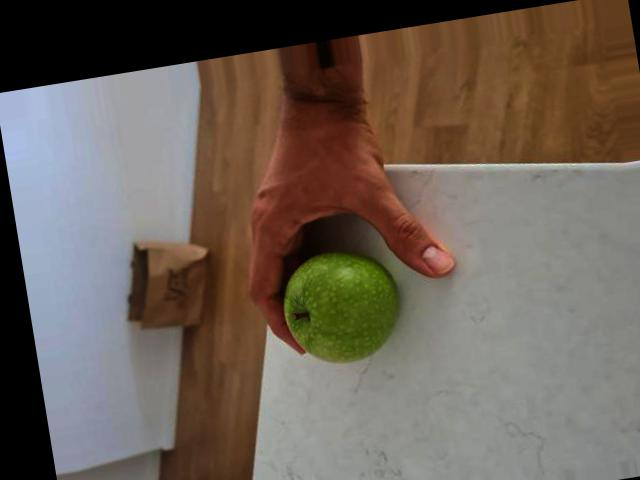apple: (275, 246, 410, 362)
